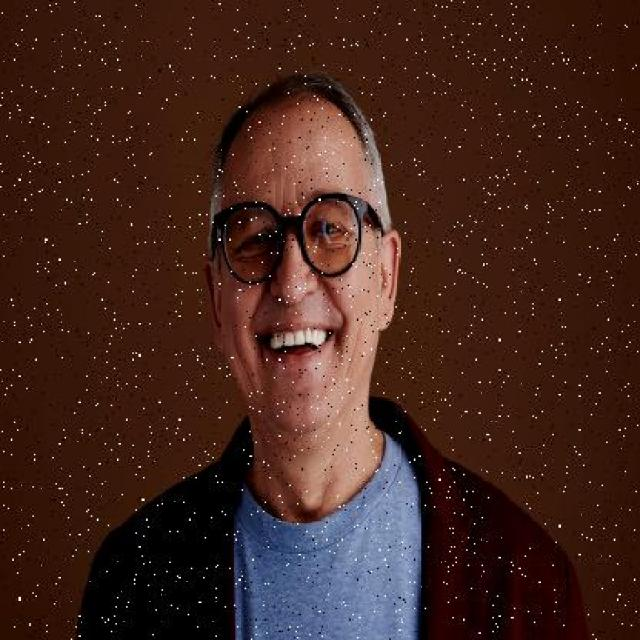glasses: (208, 187, 374, 295)
